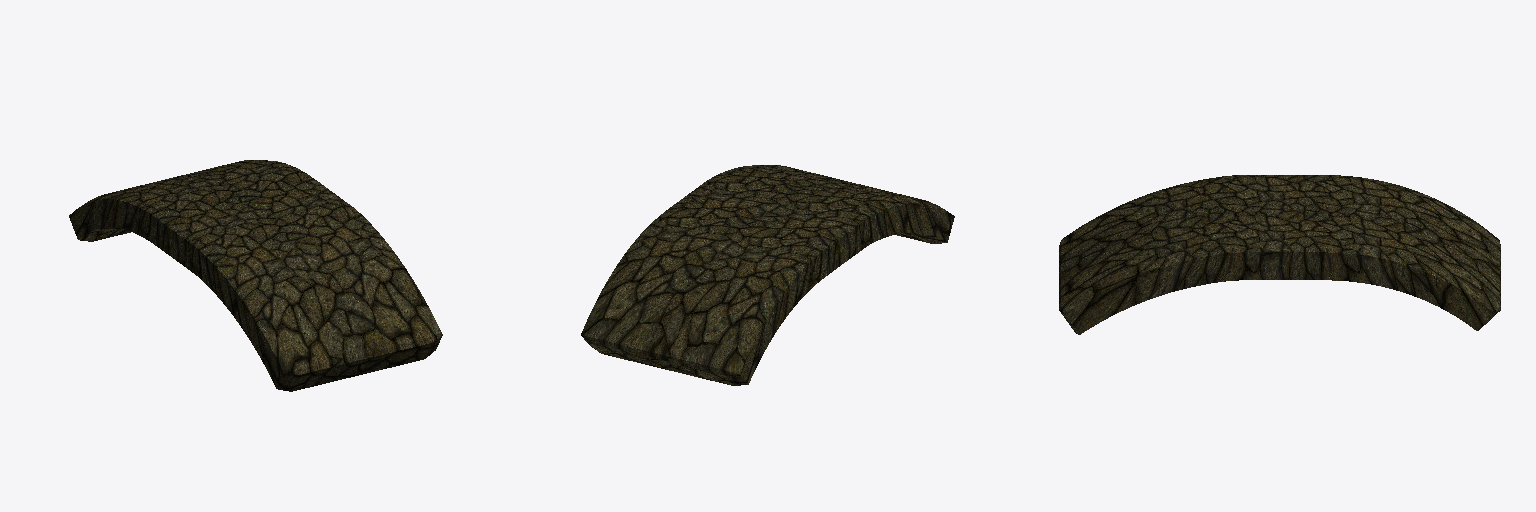
3 views of the same model, side by side, from view 1: azimuth 30°, elevation 25°; view 2: azimuth 150°, elevation 25°; view 3: azimuth 270°, elevation 25° (orthographic).
Parts seen in each view (by area): view 1: Cube_Cube.001; view 2: Cube_Cube.001; view 3: Cube_Cube.001.
Part boxes in pixels (x1,y1,x2,y2): Cube_Cube.001: (69,160,442,391); Cube_Cube.001: (581,165,954,385); Cube_Cube.001: (1059,175,1500,334).
Size of the model in its own units: 4 by 2.17 by 9.62.
Materials: 1 (1 with a texture image).